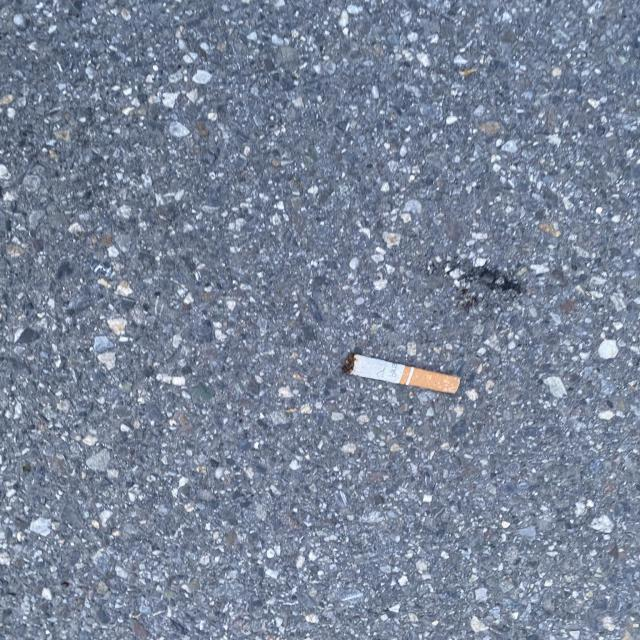other waste: (341, 352, 461, 395)
